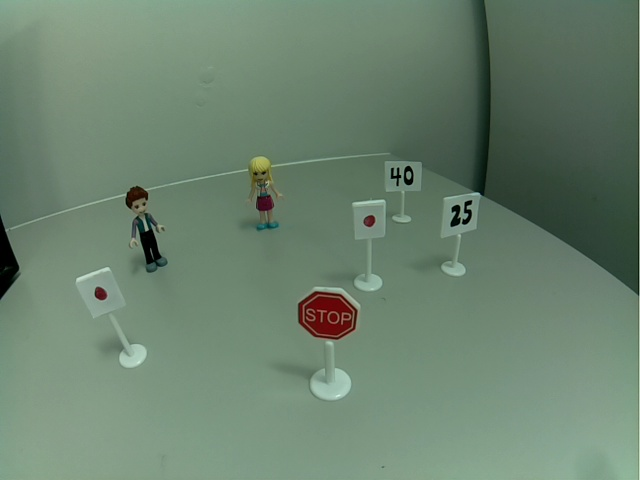people: (120, 187, 172, 272), (240, 155, 288, 232)
red light: (71, 266, 133, 323), (352, 199, 388, 242)
speed 25: (440, 193, 481, 235)
speed 40: (382, 158, 422, 193)
stop: (293, 284, 359, 341)
